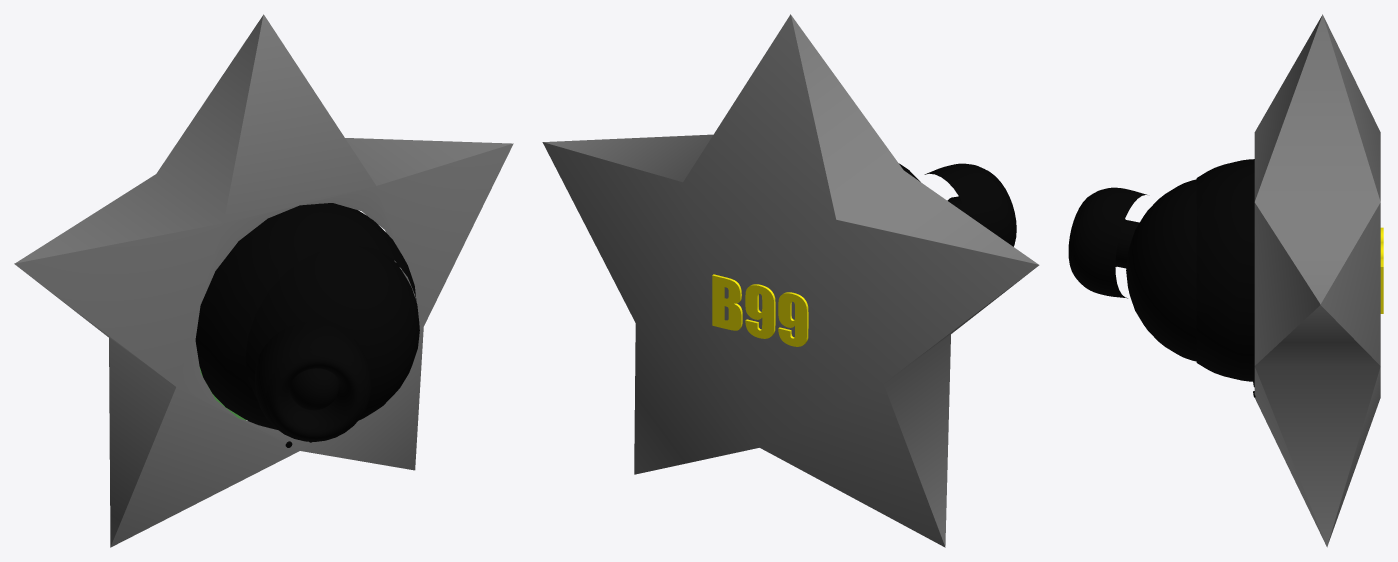
Rendered from single star.glb.
The picture shows the model from 3 angles, left to right: view 1: azimuth 30°, elevation 25°; view 2: azimuth 150°, elevation 25°; view 3: azimuth 270°, elevation 25°; orthographic projection. The views are drawn at different scales.
Parts seen in each view (by area): view 1: Polygon, Battery_Cover, Driver_cover, Front_Body, Earbud, Earbud_-_Right; view 2: Front_Body, Polygon, Earbud, B, Middle_9, Last_9; view 3: Front_Body, Polygon, Battery_Cover, Driver_cover, Earbud.
Boxes of the visible parts, x1,y1,x2,y2 form: Polygon: (14,14,513,547); Battery_Cover: (195,203,416,429); Driver_cover: (245,245,419,420); Front_Body: (16,16,511,545); Earbud: (255,322,371,441); Earbud_-_Right: (289,368,339,410); Front_Body: (542,14,1039,547); Polygon: (542,15,1038,545); Earbud: (924,163,1016,246); B: (712,274,742,330); Middle_9: (745,284,775,338); Last_9: (778,292,808,346); Front_Body: (1315,15,1380,546); Polygon: (1254,14,1327,547); Battery_Cover: (1196,159,1254,381); Driver_cover: (1115,179,1196,361); Earbud: (1068,187,1146,298).
Size of the model in its own units: 0.3374 by 0.3209 by 0.1975.
